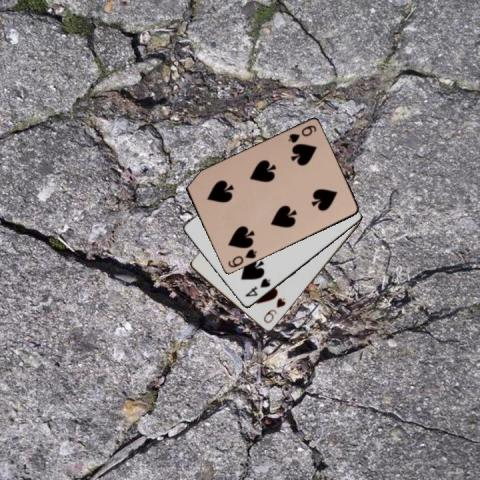4s: (242, 275, 272, 299)
6s: (225, 246, 258, 269), (285, 123, 318, 144)
9s: (261, 295, 287, 325)
